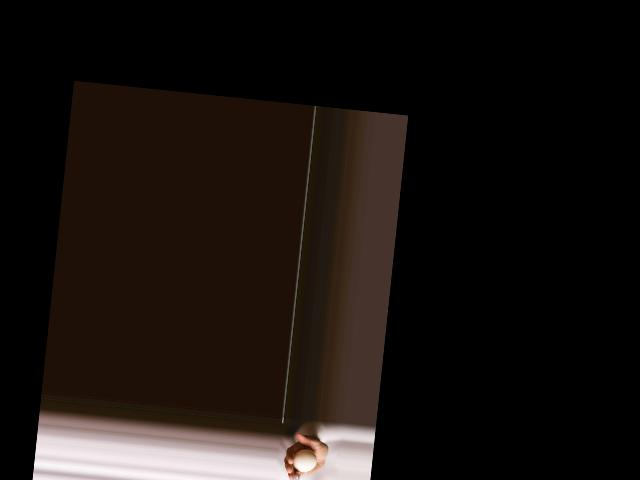egg: (291, 448, 317, 473)
